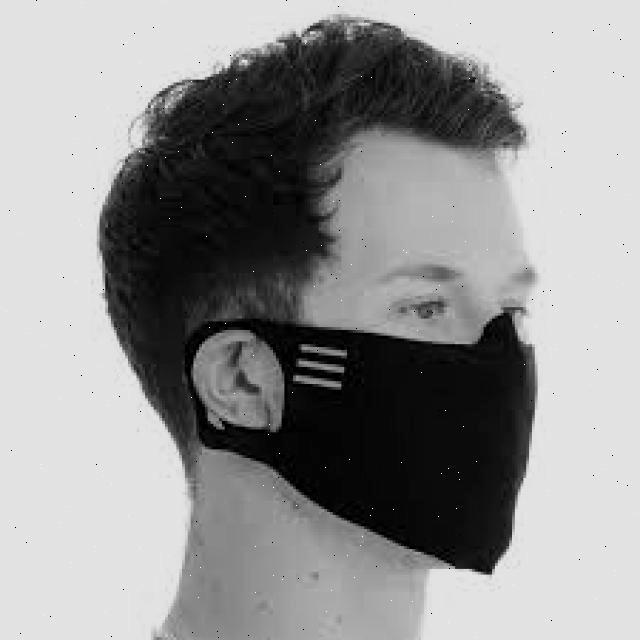fake: (176, 309, 569, 603)
real: (313, 135, 541, 585)
